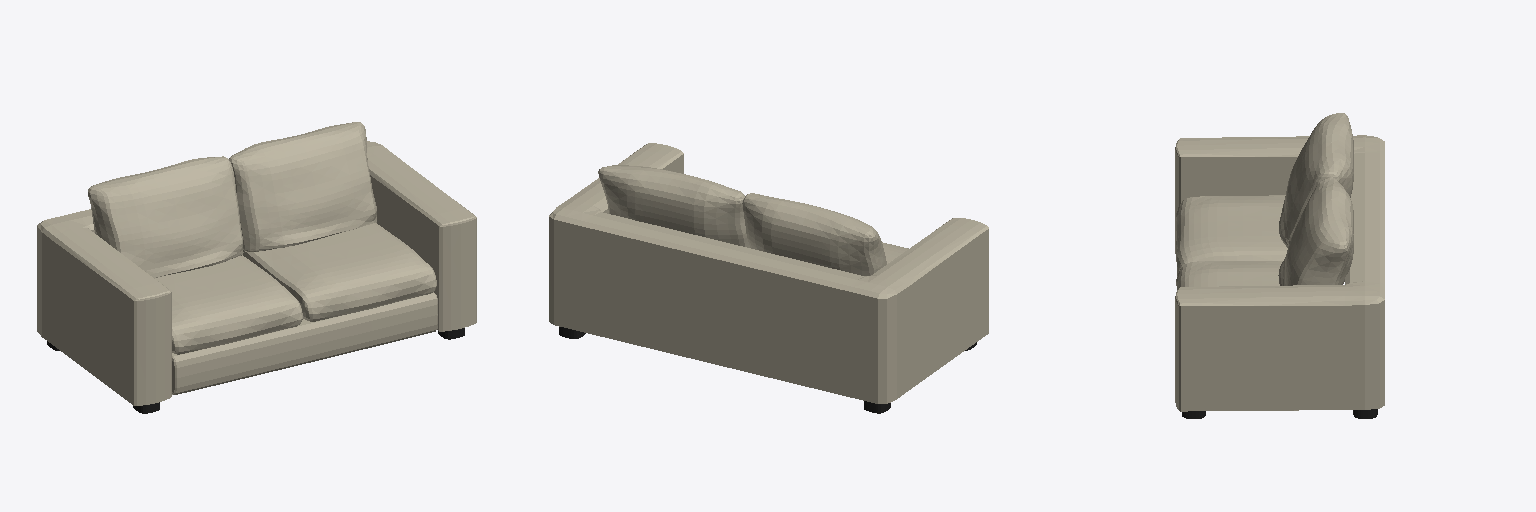
File: sofa.obj
3 views of the same model, side by side, from view 1: azimuth 30°, elevation 25°; view 2: azimuth 150°, elevation 25°; view 3: azimuth 270°, elevation 25° (orthographic).
Visible parts, largest first — view 1: back, bigcushion2., bigcushion2, base_big_cus, base, base_big.000; view 2: back, bigcushion2., bigcushion2; view 3: back, base_big.000, bigcushion2., bigcushion2, base_big_cus.
Part boxes in pixels (x1,y1,x2,y2): back: (37, 141, 476, 405); bigcushion2.: (229, 122, 376, 251); bigcushion2: (88, 156, 243, 277); base_big_cus: (243, 223, 436, 321); base: (172, 292, 437, 394); base_big.000: (155, 255, 302, 354); back: (549, 143, 988, 403); bigcushion2.: (598, 165, 749, 247); bigcushion2: (742, 193, 886, 275); back: (1175, 135, 1384, 411); base_big.000: (1176, 195, 1287, 274); bigcushion2.: (1278, 177, 1353, 285); bigcushion2: (1279, 113, 1353, 247); base_big_cus: (1176, 261, 1282, 289).
Size of the model in its own units: 1.7 by 0.7972 by 0.8996.